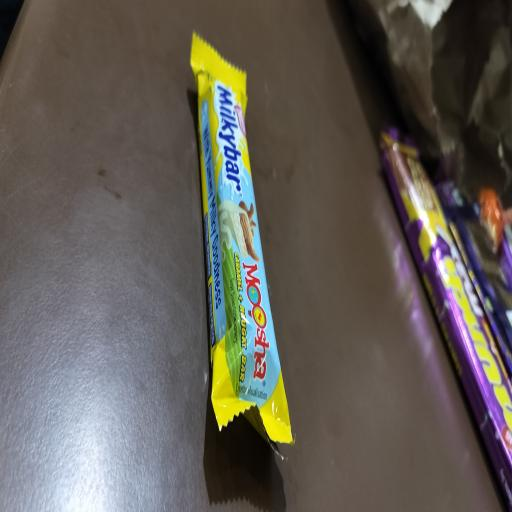chocolate: (186, 26, 297, 452)
milky-bar: (211, 78, 248, 204)
